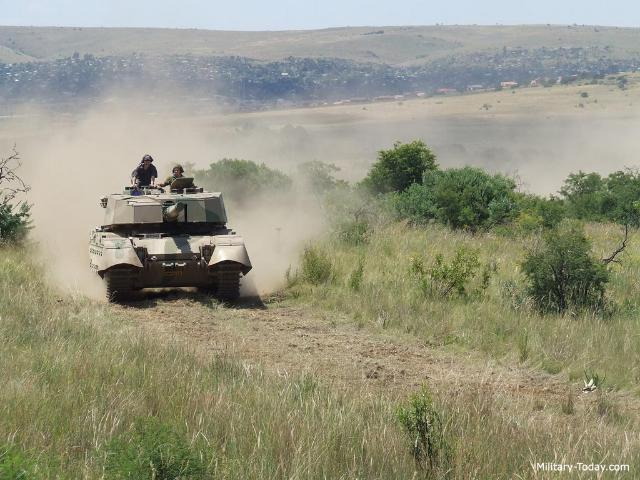other: (129, 150, 155, 192), (166, 162, 184, 190)
tank: (91, 190, 247, 300)
